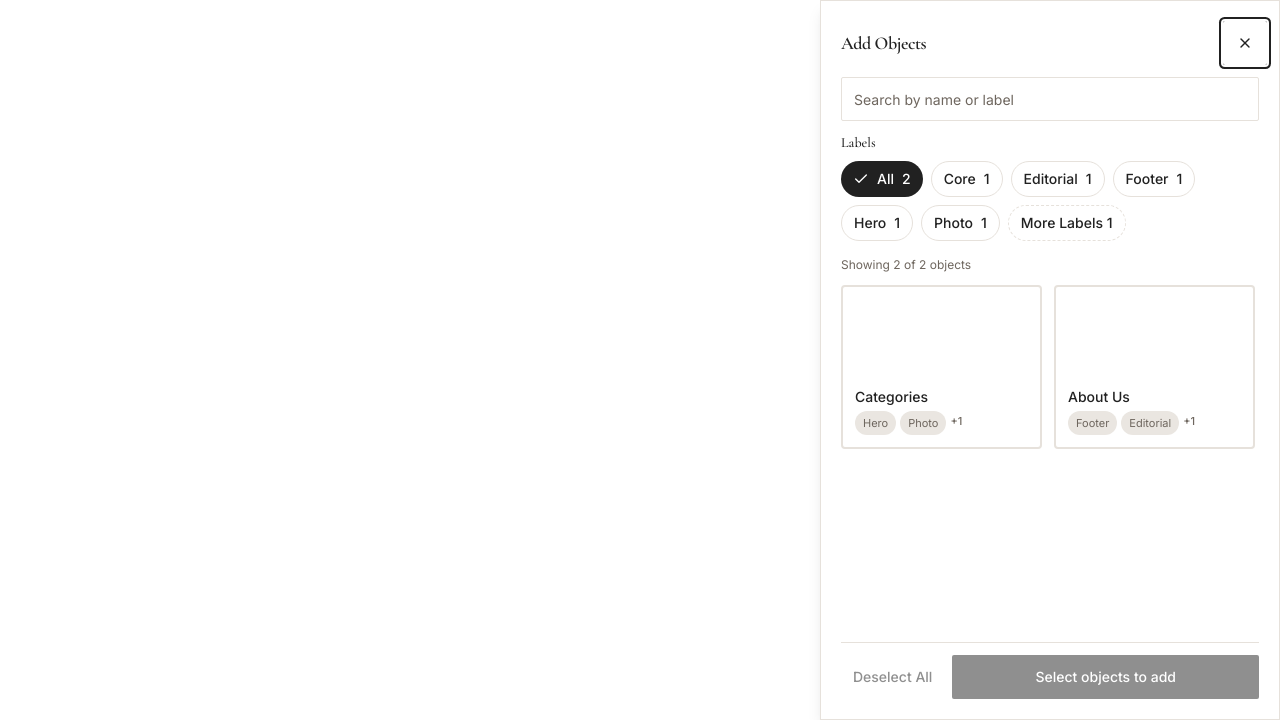
it: retains hidden selections and adds every selected object after filtering
Later steps or results of the test are not shown.
Click the button "Categories Hero Photo +1" at (942, 367), box [841,285,1042,449]
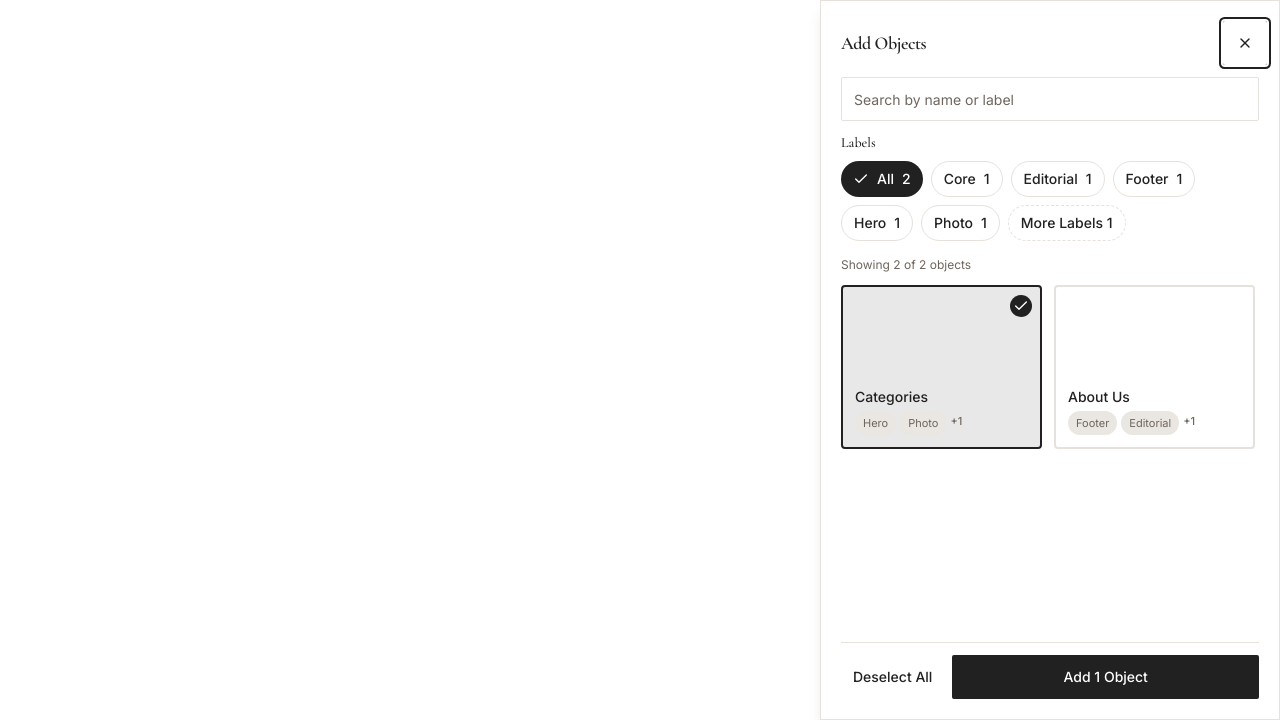
Click the button "About Us Footer Editorial +1" at (1154, 367), box [1054,285,1255,449]
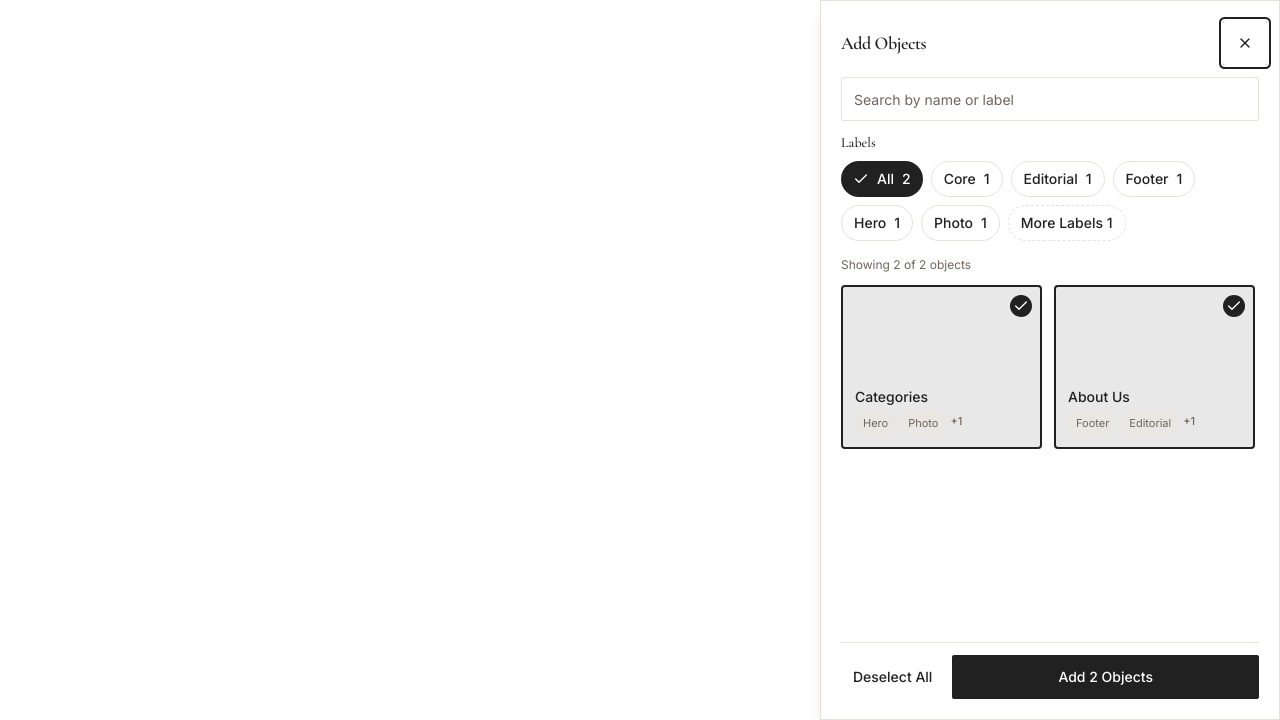
Click the button "Hero 1" at (877, 223), box [841,205,913,241]
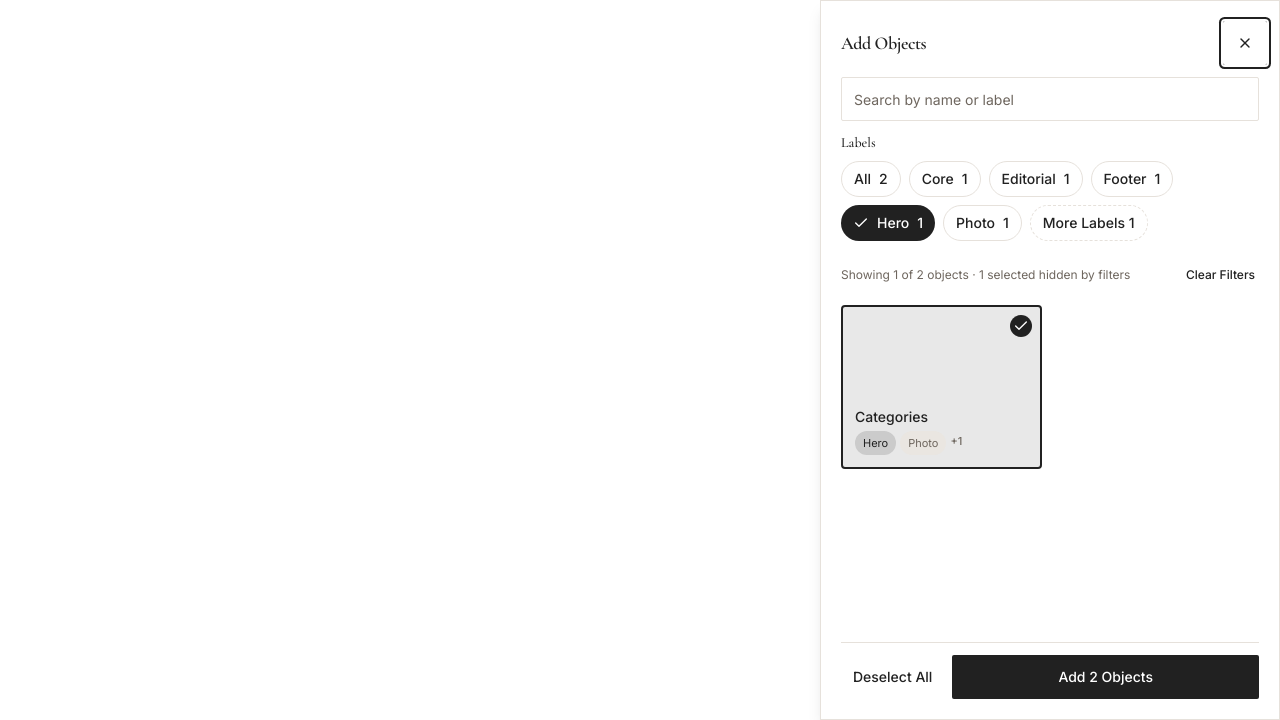
Now the message reads "Showing 1 of 2 objects · 1 selected hidden by filters", box [841,267,1130,283]
